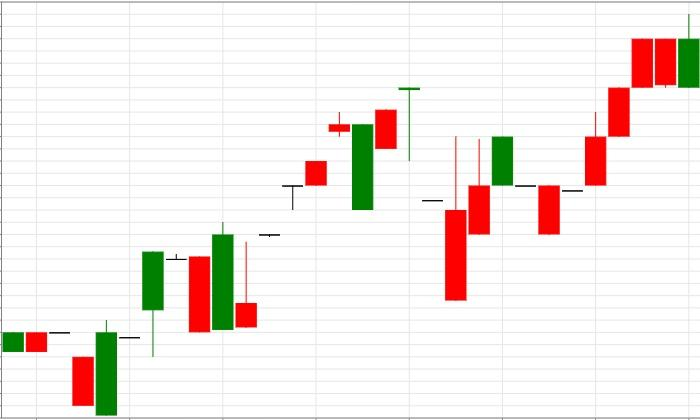evening_star_fall: (236, 111, 373, 328)
three_white_soldiers_rise: (492, 37, 653, 234)
